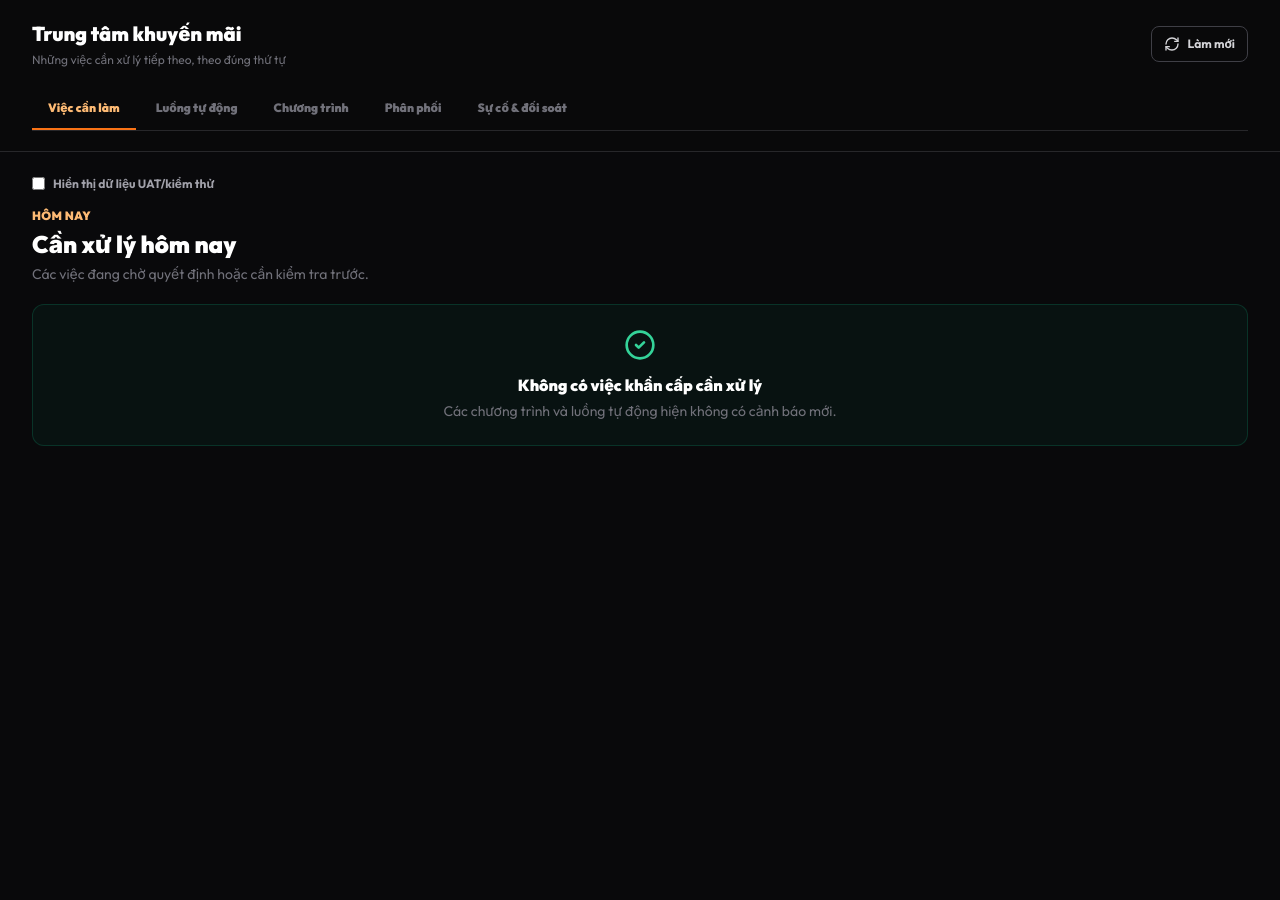
Test case: AdminPromotionCenterPage › keeps UAT playbooks and runs out of operational read models until explicitly included
Check: the text "Ưu đãi cho lần đặt vé thứ hai" is not shown
What coordinates should you click on to do the following:
click the checkbox labelled "Hiển thị dữ liệu UAT/kiểm thử"
I would click on:
 (38, 184)
Its box is [32,177,45,190].
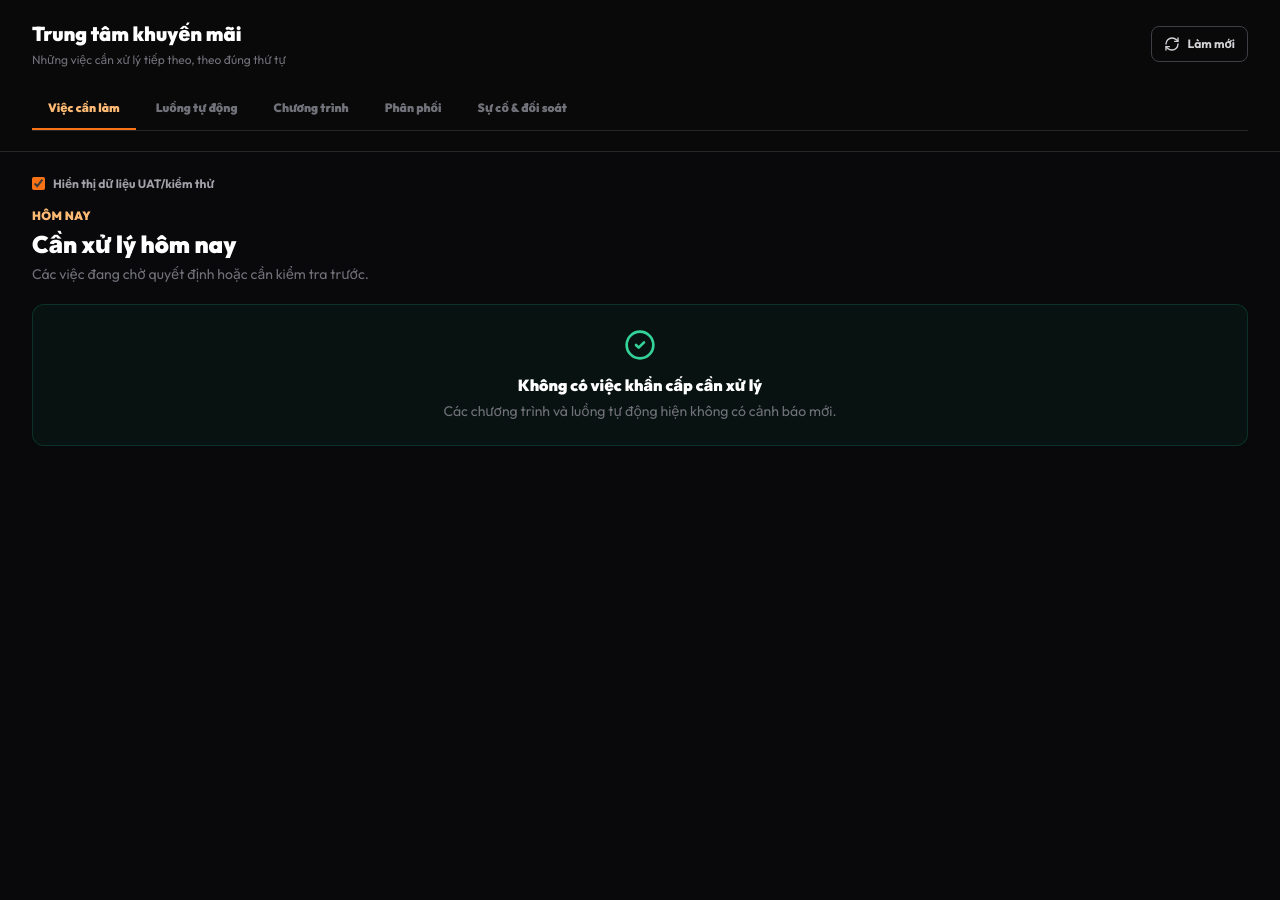
What coordinates should you click on to do the following:
click the button "Luồng tự động"
I would click on:
 (197, 109)
Its box is [140,88,254,130].
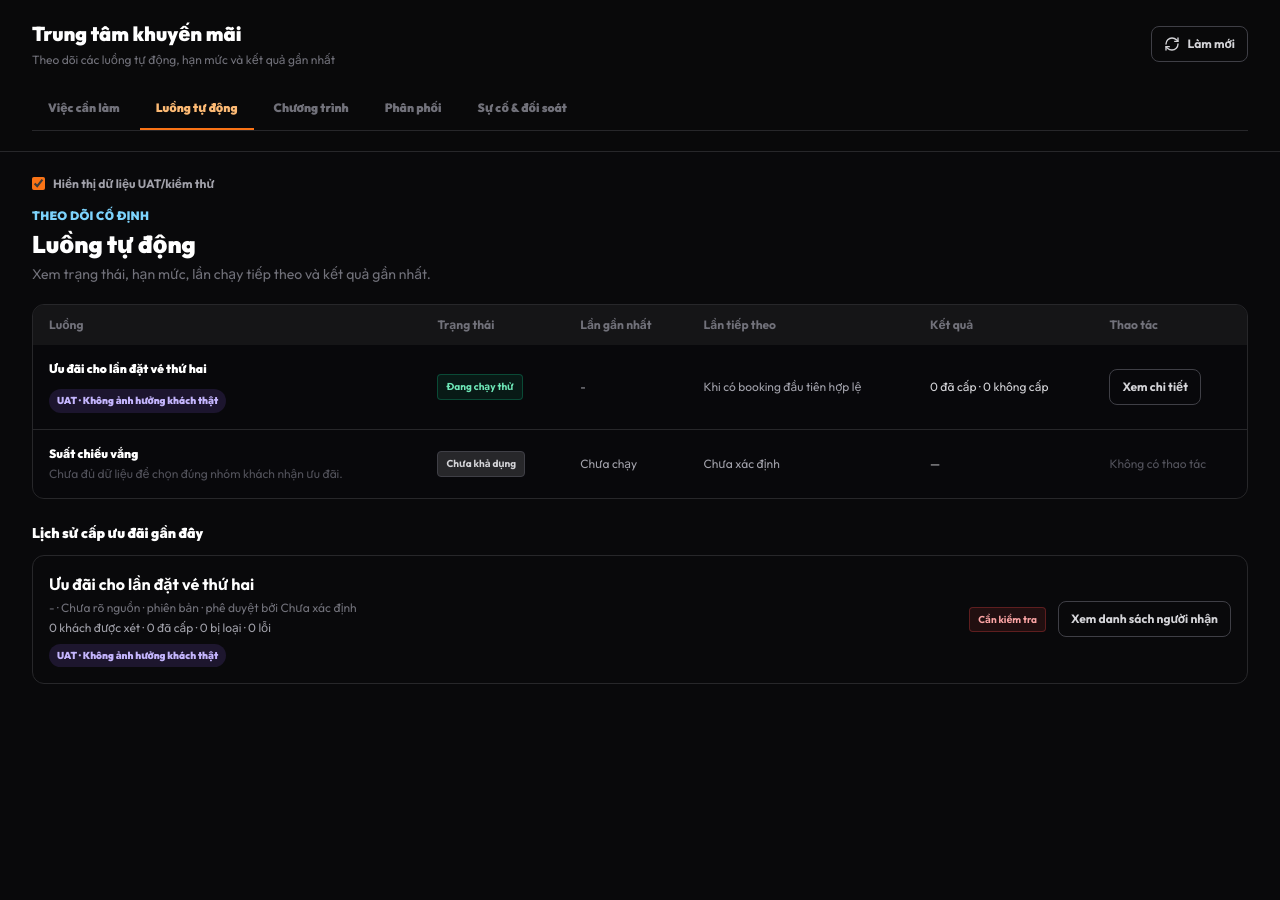
Check: the text "Ưu đãi cho lần đặt vé thứ hai" below "Lần gần nhất" is shown, box [49,360,207,376]
Check: the text "UAT · Không ảnh hưởng khách thật" in the row of "Đang chạy thử" is shown, box [49,388,226,412]
